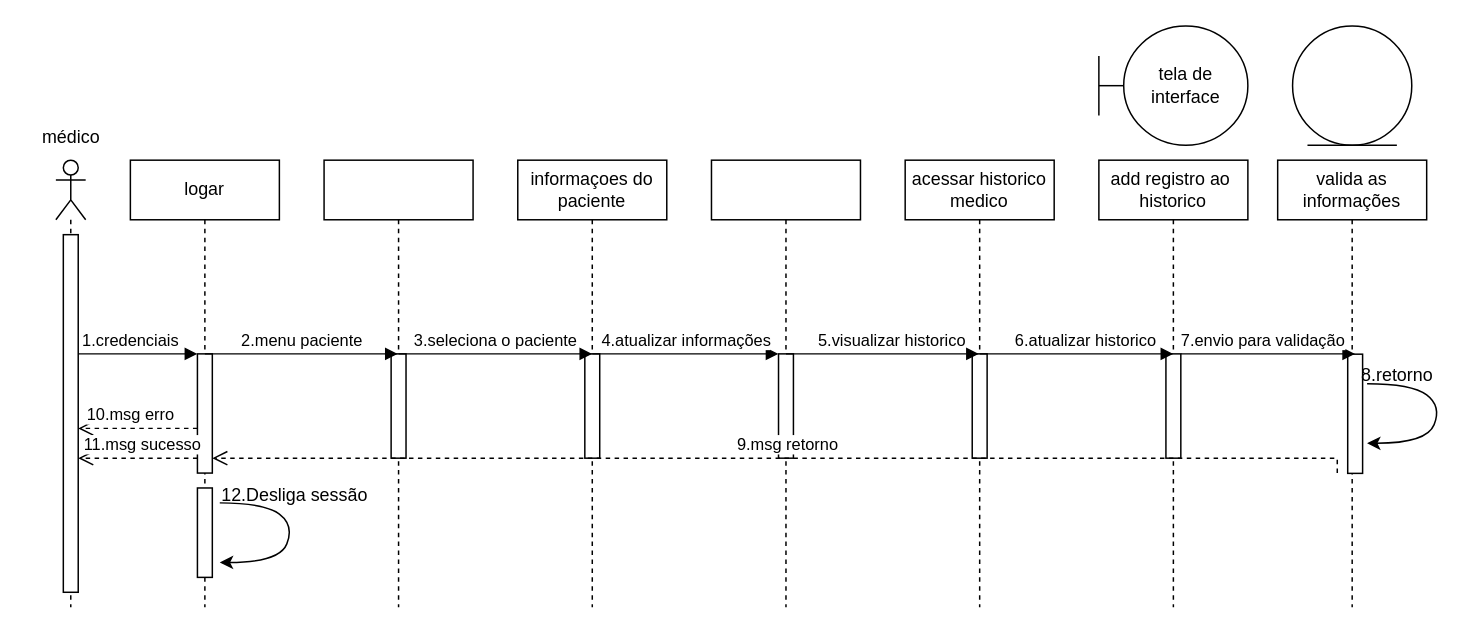
The diagram is 1474 pixels wide and 633 high, and some of its shapes have lost their labels. Each missing label, with the centre of its shape:
"atualizar inform. paciente" belongs at point (785, 383).
"instituição" belongs at point (1351, 85).
"listar paciente" belongs at point (398, 383).
